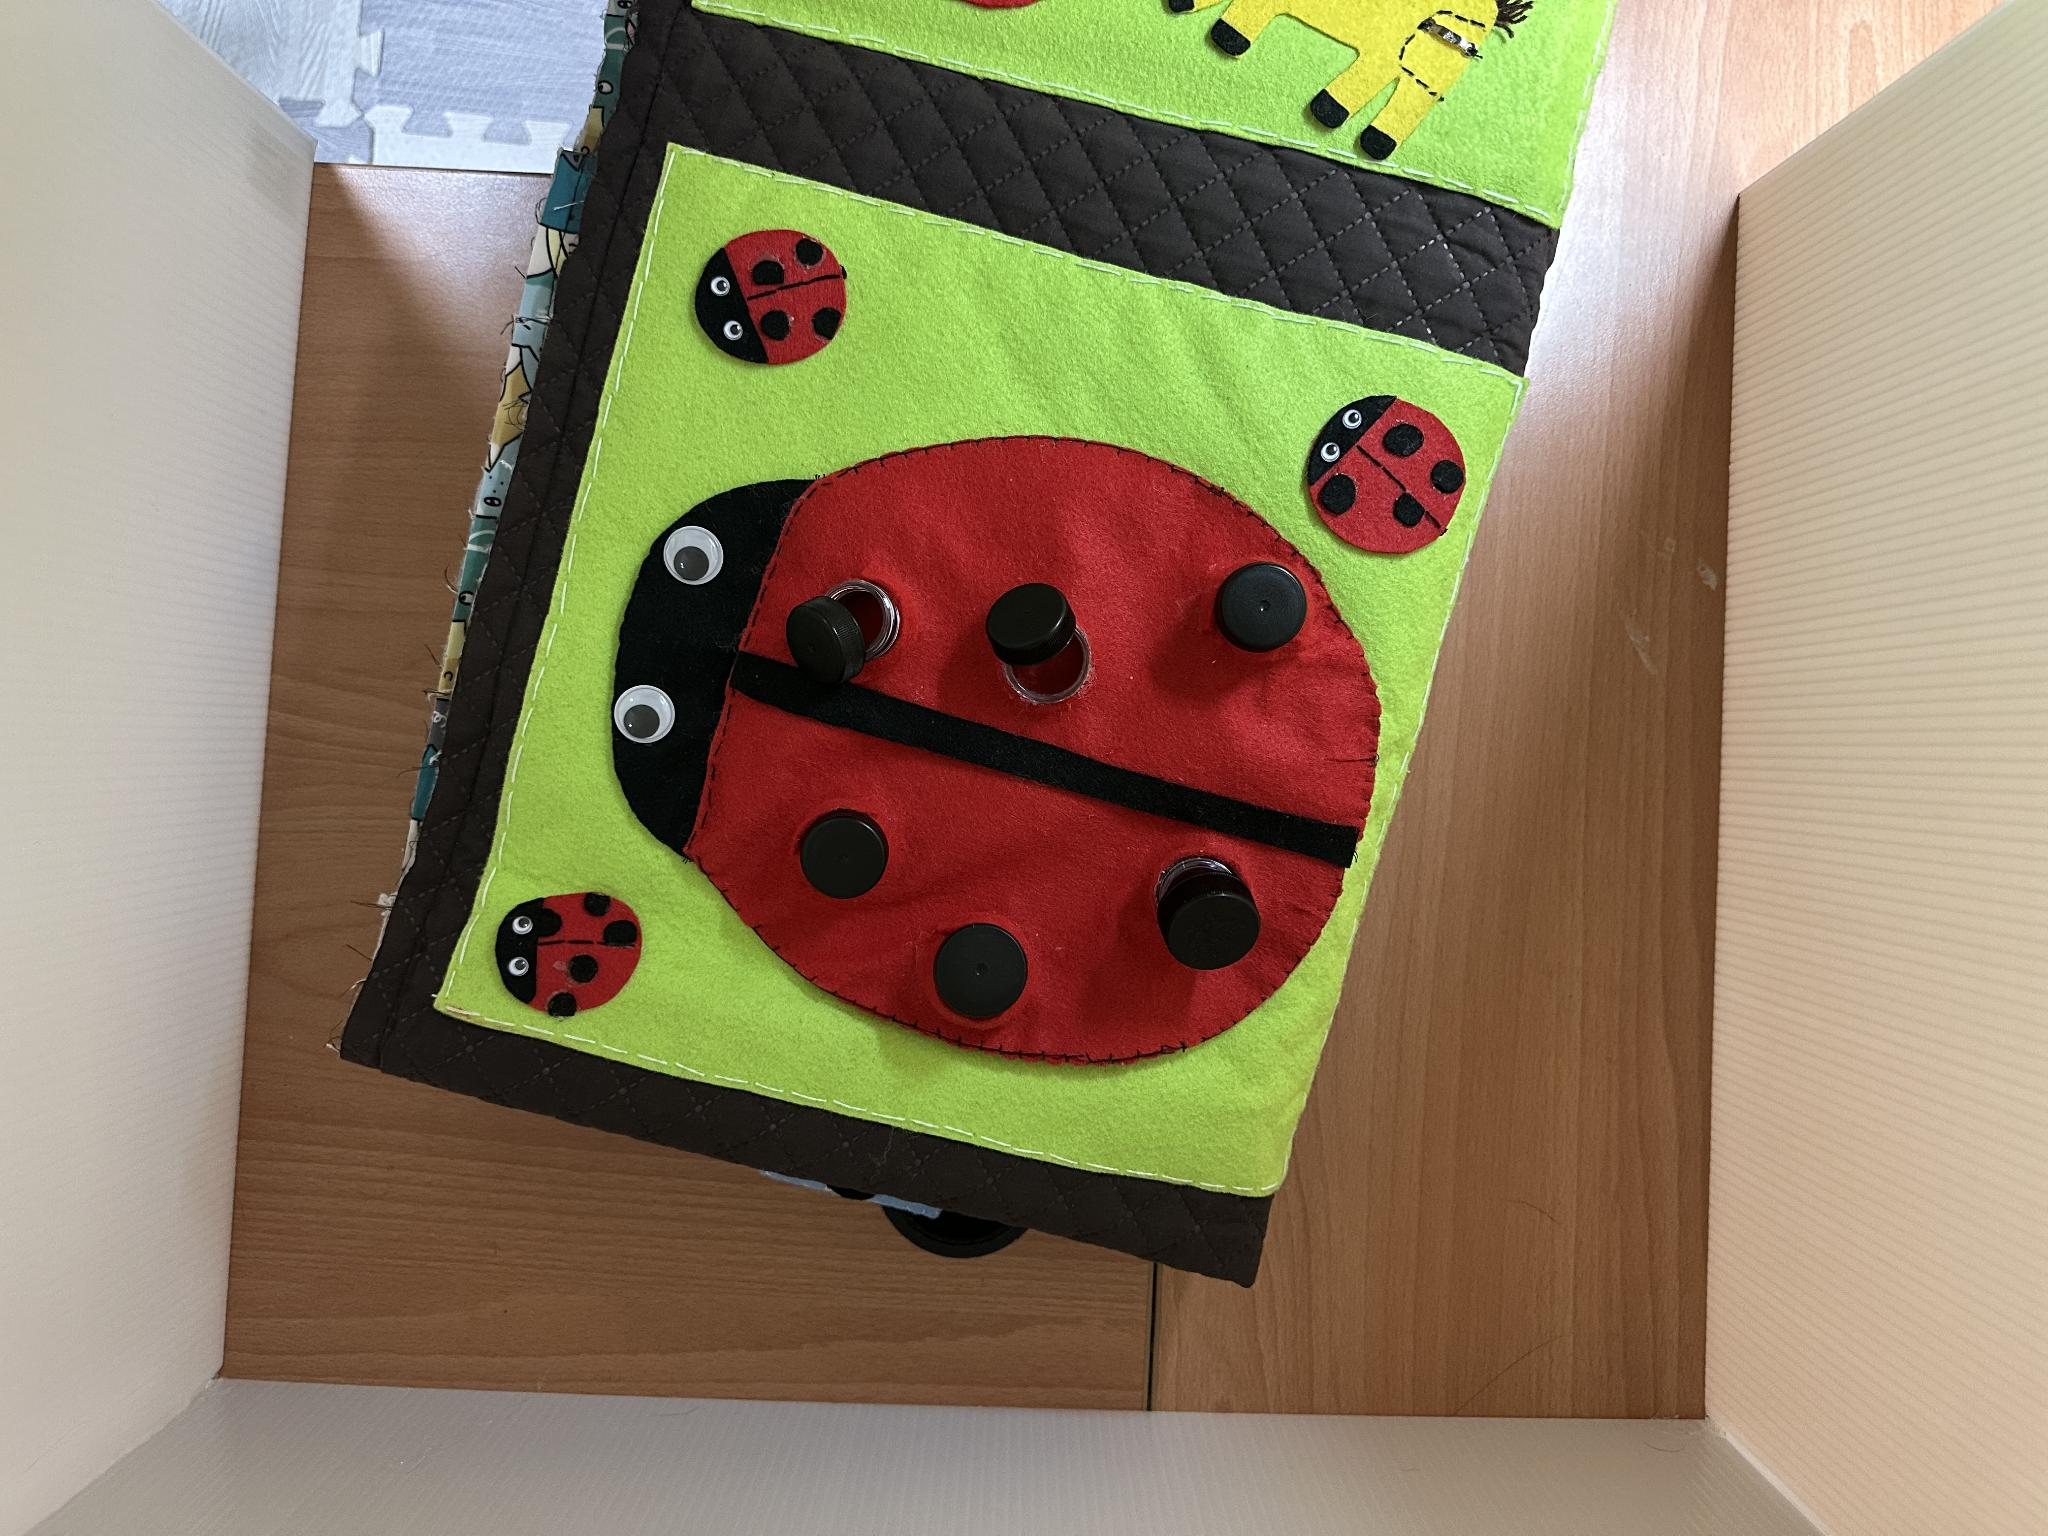cap_ng: (966, 570, 1114, 721), (780, 555, 921, 700), (1145, 844, 1272, 976)
cap_ok: (921, 905, 1047, 1041), (785, 799, 911, 918), (1201, 547, 1321, 671)
